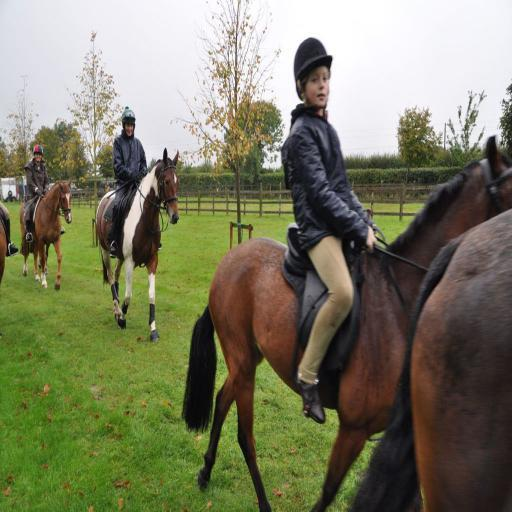Horse: (180, 132, 512, 512), (348, 208, 512, 511), (92, 142, 181, 339), (20, 180, 72, 295), (0, 210, 10, 281)
